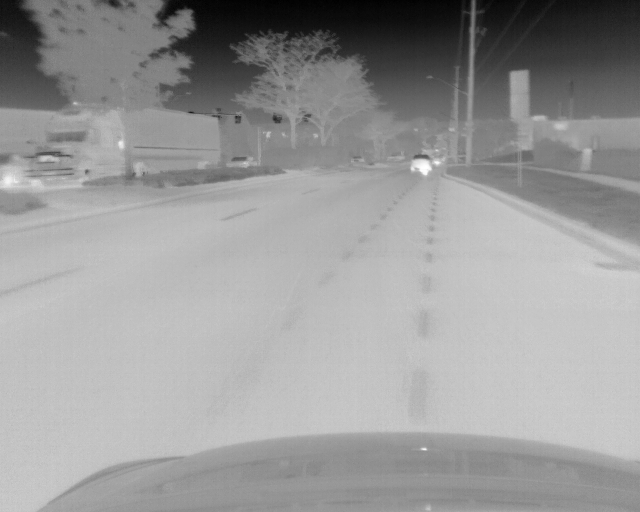car: (27, 106, 221, 176), (411, 155, 433, 173), (226, 155, 258, 167), (350, 154, 364, 163)
